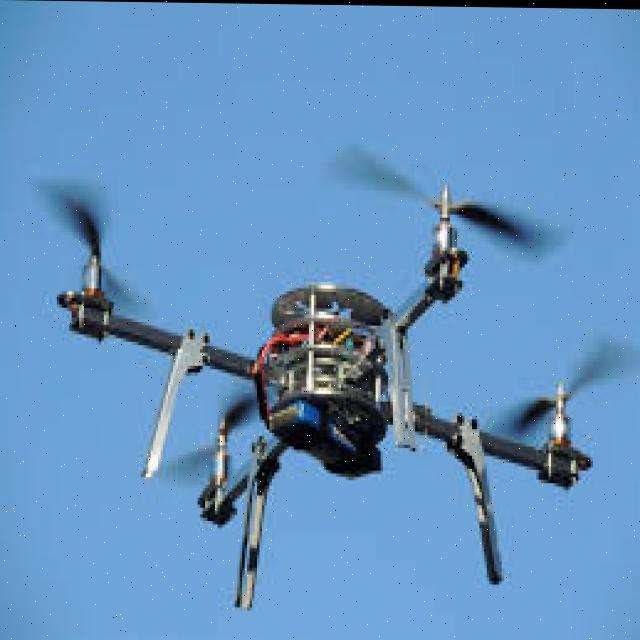drone: (34, 164, 633, 617)
